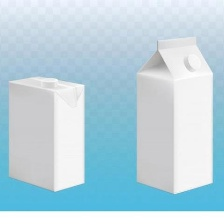carton: (132, 34, 219, 197), (3, 69, 88, 194)
